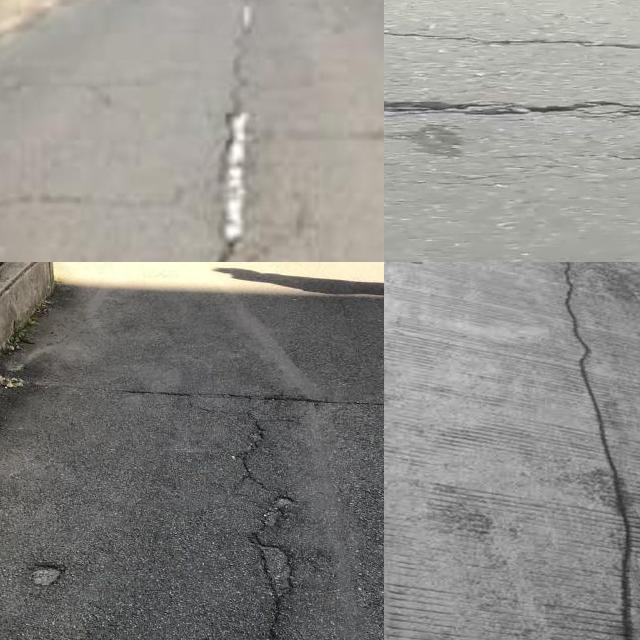Lubang: (15, 556, 69, 590)
Melintang: (54, 372, 384, 417), (384, 88, 640, 131), (384, 20, 640, 62)
Memanjang: (552, 262, 640, 640), (232, 399, 302, 640), (198, 46, 258, 262)
